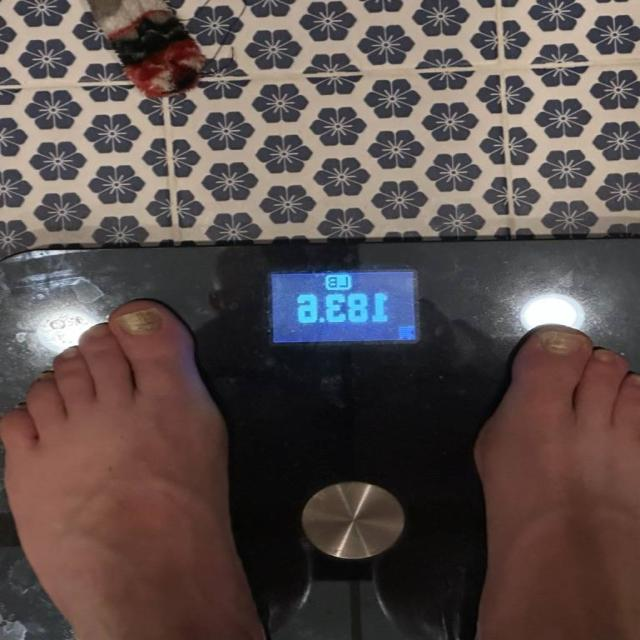ws: (1, 236, 640, 639)
